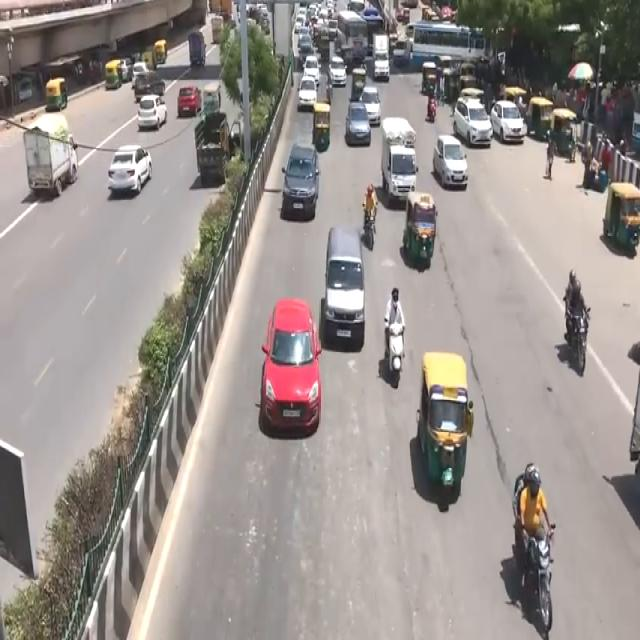MOTORCYCLE: (530, 530, 557, 640), (568, 310, 590, 381), (383, 322, 404, 392), (364, 207, 377, 251)
